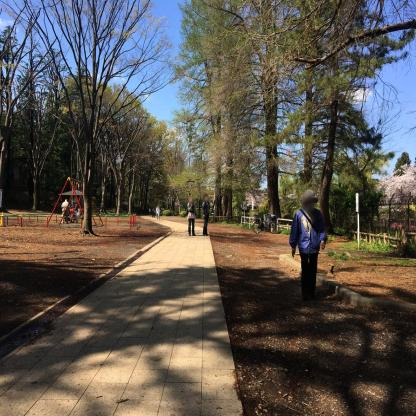Someiyoshino: (372, 150, 416, 208), (243, 187, 297, 209)
